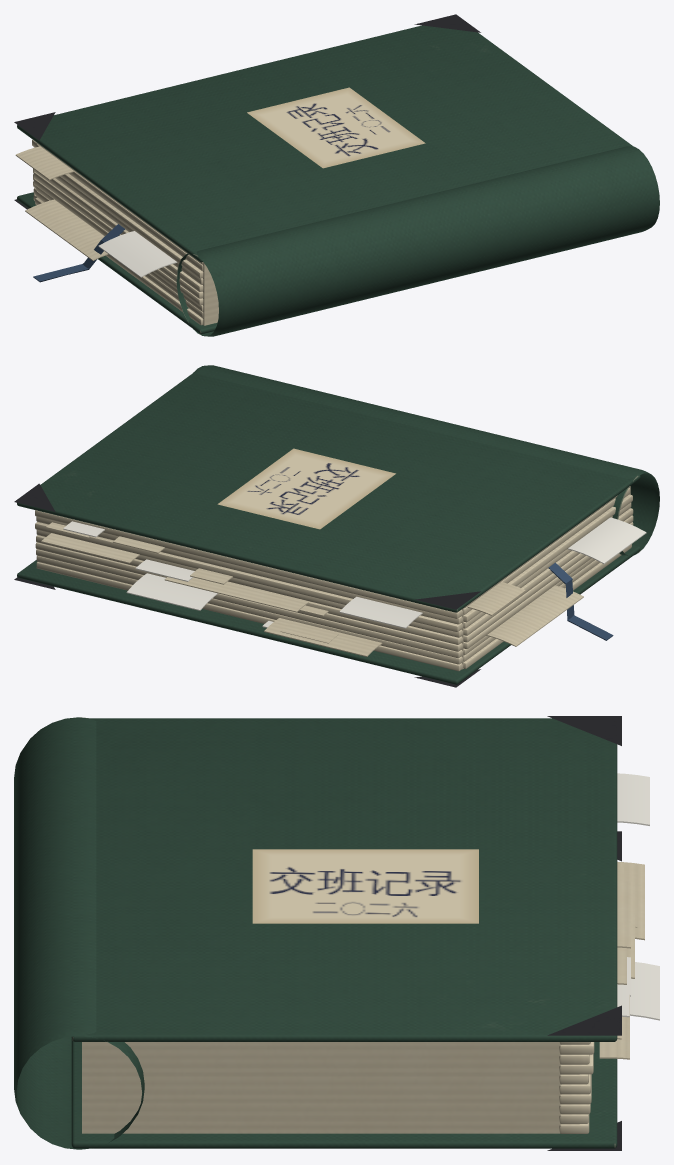
Rendered from LSB_ENV_PRP_ShiftLedger_v01.fbx.
The picture shows the model from 3 angles, top to bottom: view 1: azimuth 30°, elevation 25°; view 2: azimuth 150°, elevation 25°; view 3: azimuth 270°, elevation 25°; orthographic projection. The views are drawn at different scales.
Visible parts, largest first — view 1: Ledger; view 2: Ledger; view 3: Ledger.
Boxes of the visible parts, x1,y1,x2,y2 form: Ledger: (14, 14, 659, 336); Ledger: (14, 365, 659, 687); Ledger: (14, 716, 659, 1150).
Bounding box in the file's own units: 0.3454 × 0.052 × 0.257.
